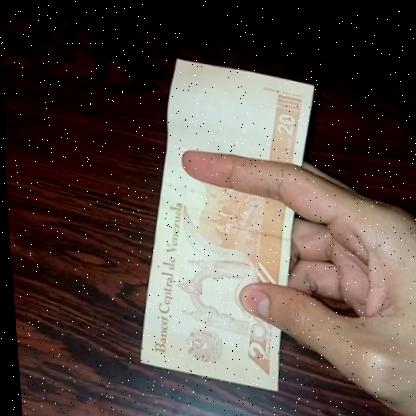twenty-back-vef: (120, 46, 336, 401)
